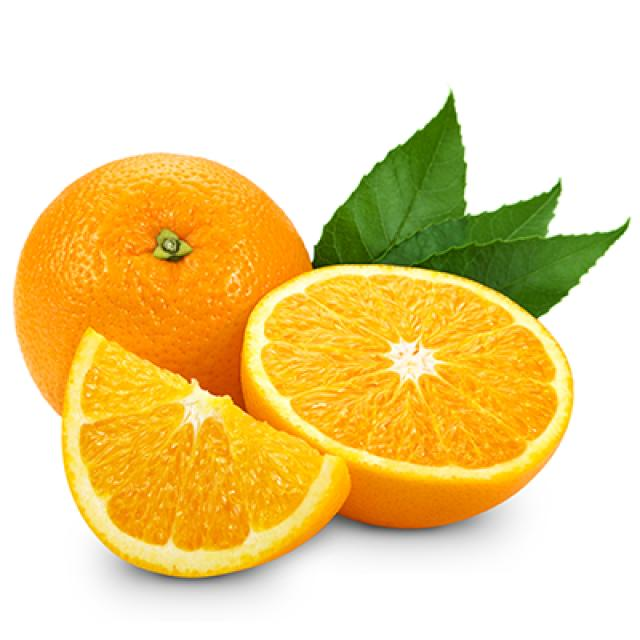orange: (238, 258, 579, 532), (10, 152, 322, 442), (57, 326, 351, 582)
